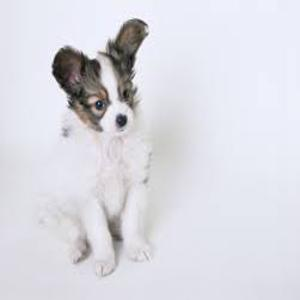yell: (36, 17, 153, 277)
